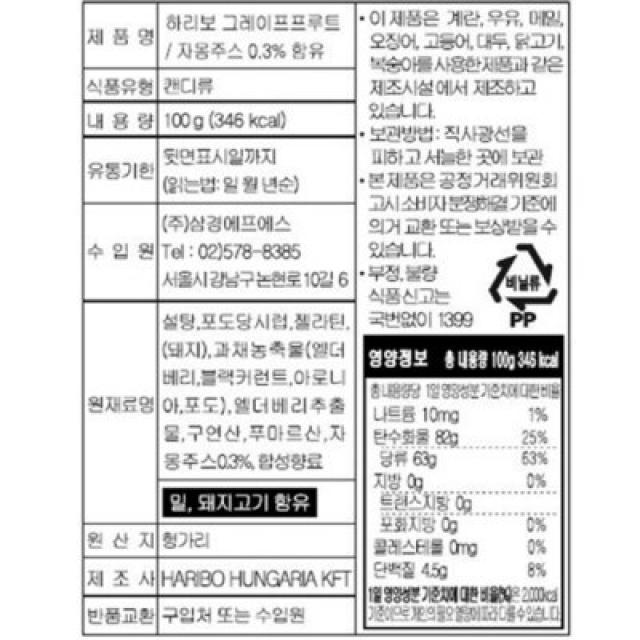Nutrition Label: (357, 332, 573, 637)
